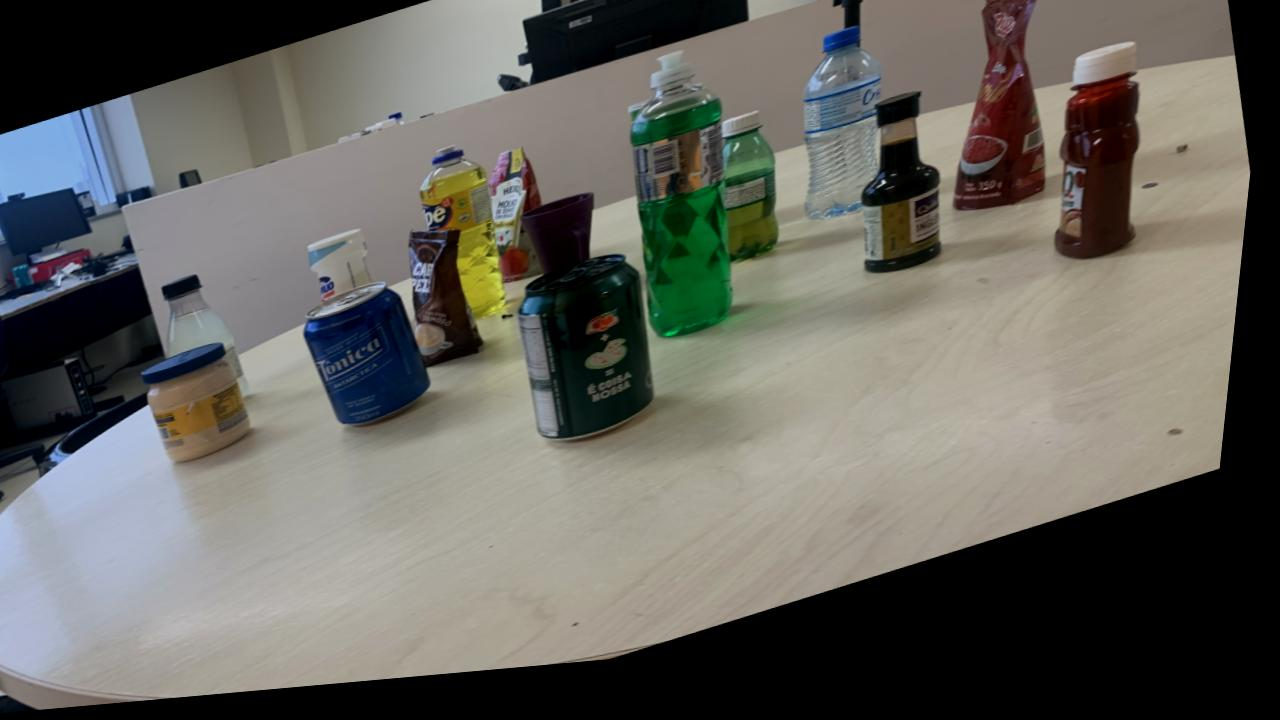Cleaner-Cleanup_Items: (313, 236, 378, 306)
Coffee-Pantry_Items: (414, 238, 492, 376)
Detergent-Cleanup_Items: (633, 65, 740, 349), (424, 155, 513, 327)
English_Sauce-Pantry_Items: (867, 109, 948, 290)
Guarana-Drinks: (726, 125, 785, 275)
Guarana_Can-Drinks: (525, 265, 664, 452)
Ketchup-Pantry_Items: (1061, 63, 1145, 279)
Mayonnaise-Pantry_Items: (151, 346, 260, 466)
Soda-Drinks: (169, 278, 258, 400)
Tomato_Sauce-Pantry_Items: (959, 4, 1051, 229), (493, 157, 548, 293)
Tonic-Drinks: (311, 289, 439, 433)
Water_Bottle-Drinks: (805, 43, 885, 235)
